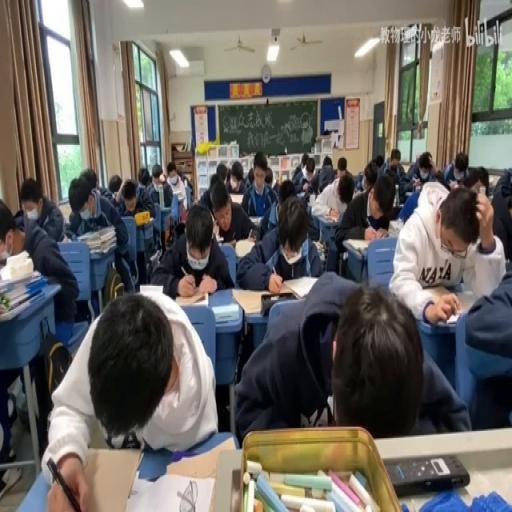calculator: (127, 469, 216, 512), (164, 434, 234, 480), (230, 283, 300, 314), (0, 292, 39, 320), (0, 266, 40, 292), (282, 273, 316, 297), (174, 288, 210, 304), (212, 302, 238, 322), (234, 238, 256, 258), (345, 238, 369, 253), (138, 283, 164, 296), (312, 238, 327, 260), (90, 188, 101, 218), (58, 200, 71, 224), (386, 218, 402, 234), (229, 192, 244, 205), (219, 238, 235, 250), (148, 248, 160, 264), (157, 182, 164, 206), (136, 214, 152, 224), (324, 213, 340, 222), (249, 215, 262, 226), (306, 193, 316, 205), (58, 233, 70, 243), (296, 189, 306, 199), (404, 190, 414, 198), (353, 186, 361, 196), (217, 236, 223, 243)
paper: (235, 273, 463, 442), (41, 286, 216, 506), (388, 181, 502, 324), (237, 192, 323, 287), (69, 170, 131, 298), (152, 199, 232, 296), (307, 166, 352, 240), (20, 175, 67, 243), (488, 168, 511, 263), (403, 148, 442, 190), (164, 160, 187, 230), (0, 199, 24, 260), (196, 165, 222, 212), (381, 148, 406, 196), (291, 154, 318, 194), (443, 150, 470, 188), (396, 188, 422, 224), (222, 156, 245, 194), (276, 179, 295, 205), (83, 165, 99, 195), (476, 165, 490, 192), (362, 164, 375, 192), (181, 171, 194, 199), (462, 171, 478, 192), (108, 173, 122, 195), (152, 165, 165, 185), (138, 165, 150, 185), (264, 166, 274, 185), (434, 168, 446, 183), (245, 166, 254, 185), (373, 154, 383, 170), (337, 155, 346, 171), (322, 155, 331, 168), (391, 160, 401, 170), (427, 158, 435, 169), (415, 151, 421, 162)
person: (386, 454, 470, 496), (248, 226, 258, 243), (302, 184, 312, 194)
